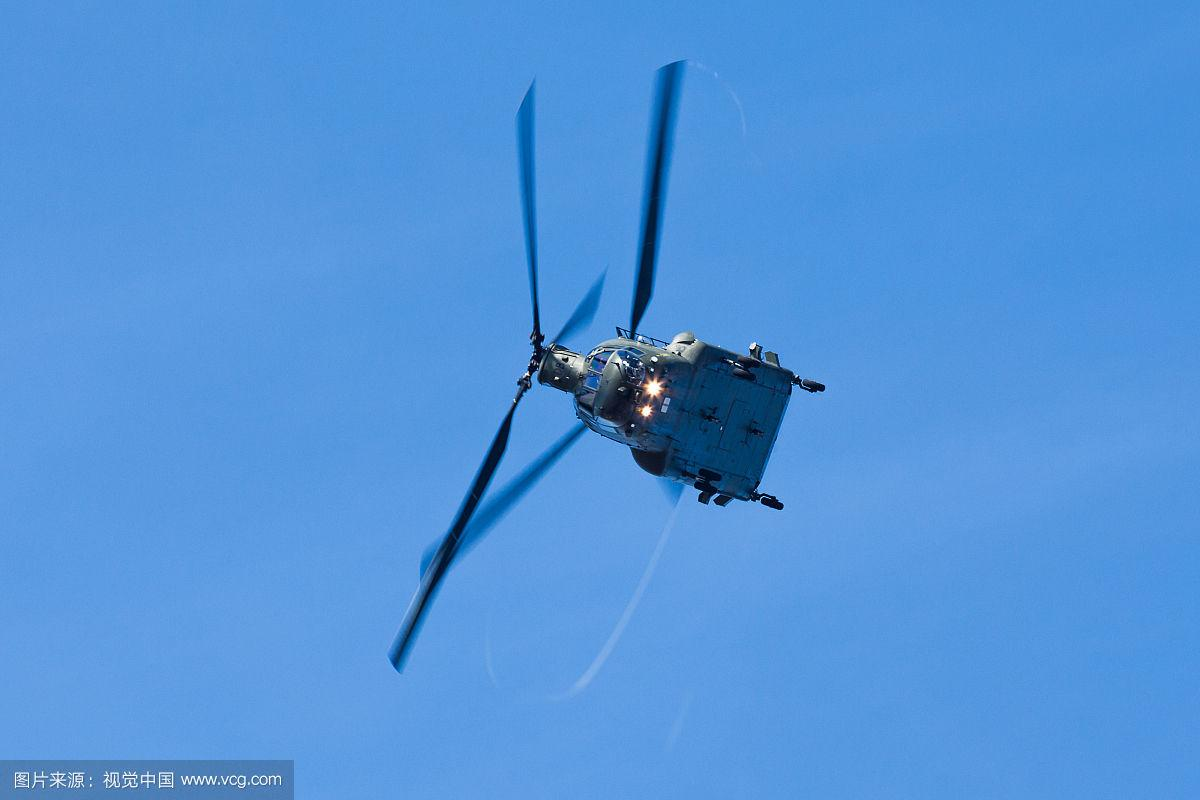airplane: (371, 50, 880, 673)
